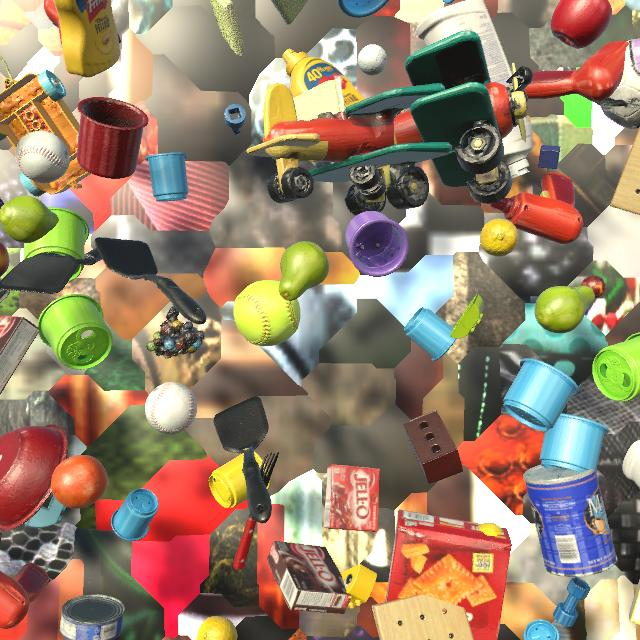ycb_002_master_chef_can: (523, 465, 617, 577)
ycb_003_cracker_box: (385, 510, 512, 640)
ycb_004_sugar_box: (629, 579, 640, 626)
ycb_005_tomato_soup_can: (0, 280, 10, 303)
ycb_006_mustard_bottle: (54, 0, 120, 77), (282, 49, 366, 109)
ycb_007_tuna_fish_can: (60, 594, 125, 640)
ycb_008_pudding_box: (267, 541, 353, 614), (0, 316, 40, 394), (0, 531, 2, 543)
ycb_009_gelatin_box: (324, 464, 380, 532)
ycb_013_apple: (551, 0, 612, 49)
ycb_014_lemon: (480, 219, 519, 257), (197, 616, 237, 640), (478, 523, 503, 536)
ycb_015_peach: (0, 242, 9, 277)
ycb_016_pear: (279, 241, 329, 301), (534, 286, 595, 333), (0, 195, 59, 243)
ycb_017_orange: (51, 455, 108, 509)
